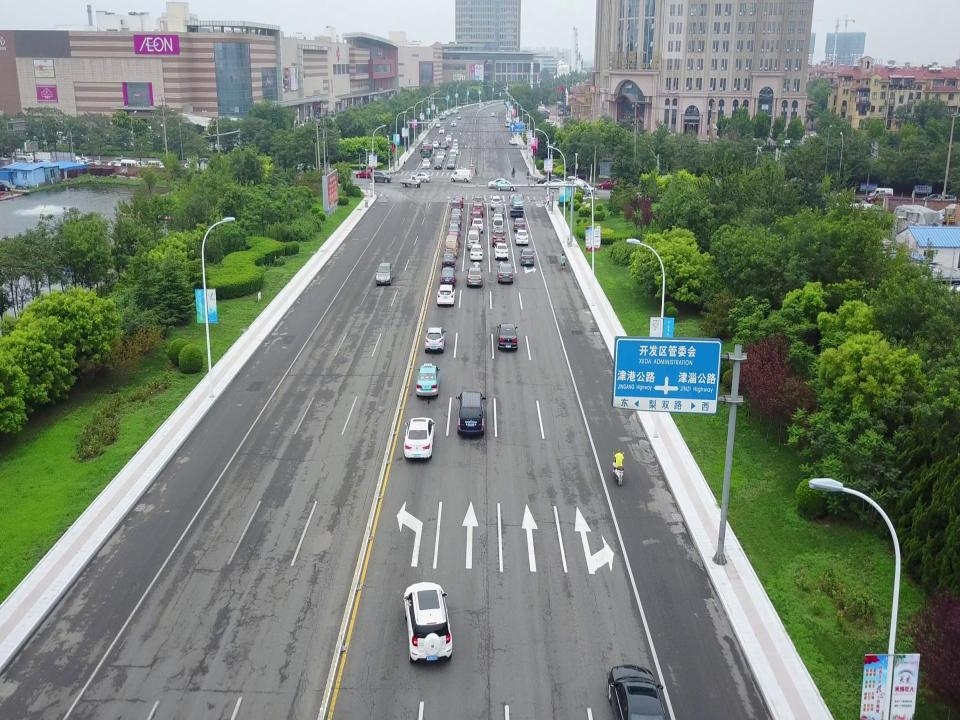bus: (420, 144, 434, 166)
car: (403, 581, 453, 666), (605, 662, 663, 720), (403, 416, 435, 461), (415, 363, 441, 398), (495, 324, 519, 352), (424, 325, 446, 354), (436, 284, 456, 308), (376, 262, 394, 286), (496, 263, 514, 285), (866, 192, 894, 205), (465, 267, 483, 287), (439, 267, 457, 285), (369, 169, 392, 182), (518, 248, 534, 266), (598, 177, 620, 190), (440, 252, 456, 269), (494, 242, 509, 260), (544, 179, 568, 190), (574, 182, 598, 193), (492, 229, 506, 247), (487, 178, 508, 190), (495, 180, 517, 191), (514, 230, 528, 246), (470, 245, 484, 261), (412, 172, 431, 183), (513, 217, 526, 233), (448, 231, 460, 248), (536, 175, 558, 184), (355, 169, 377, 178), (490, 194, 502, 210), (512, 194, 524, 209), (493, 204, 505, 219), (449, 215, 461, 229), (471, 218, 483, 232), (492, 213, 503, 227), (107, 159, 122, 169), (449, 224, 461, 236), (450, 209, 462, 221), (132, 160, 148, 169), (470, 211, 481, 224), (472, 195, 483, 208), (473, 203, 483, 217), (454, 195, 464, 208), (470, 226, 480, 239), (88, 157, 102, 166), (34, 159, 52, 166), (86, 161, 100, 169), (421, 159, 431, 169), (451, 201, 461, 211), (23, 152, 35, 160), (78, 157, 92, 163), (447, 160, 455, 170), (436, 152, 444, 161), (422, 139, 432, 146), (434, 161, 442, 169), (429, 147, 435, 157), (509, 138, 517, 145), (435, 158, 442, 166), (439, 149, 446, 157), (440, 142, 447, 150), (449, 156, 456, 163), (432, 141, 439, 148), (452, 147, 458, 155), (453, 143, 459, 150), (442, 140, 448, 147), (446, 135, 452, 142), (439, 127, 445, 133), (451, 120, 456, 127)
truck: (508, 194, 524, 218), (399, 175, 421, 188)
van: (456, 390, 486, 435), (868, 187, 894, 201), (444, 234, 458, 258), (120, 158, 140, 173), (450, 169, 472, 182), (467, 229, 479, 251), (63, 156, 84, 168), (15, 155, 33, 166), (148, 160, 164, 172), (492, 217, 504, 232), (12, 149, 28, 159), (449, 148, 456, 160), (452, 138, 458, 146), (504, 120, 509, 127)
